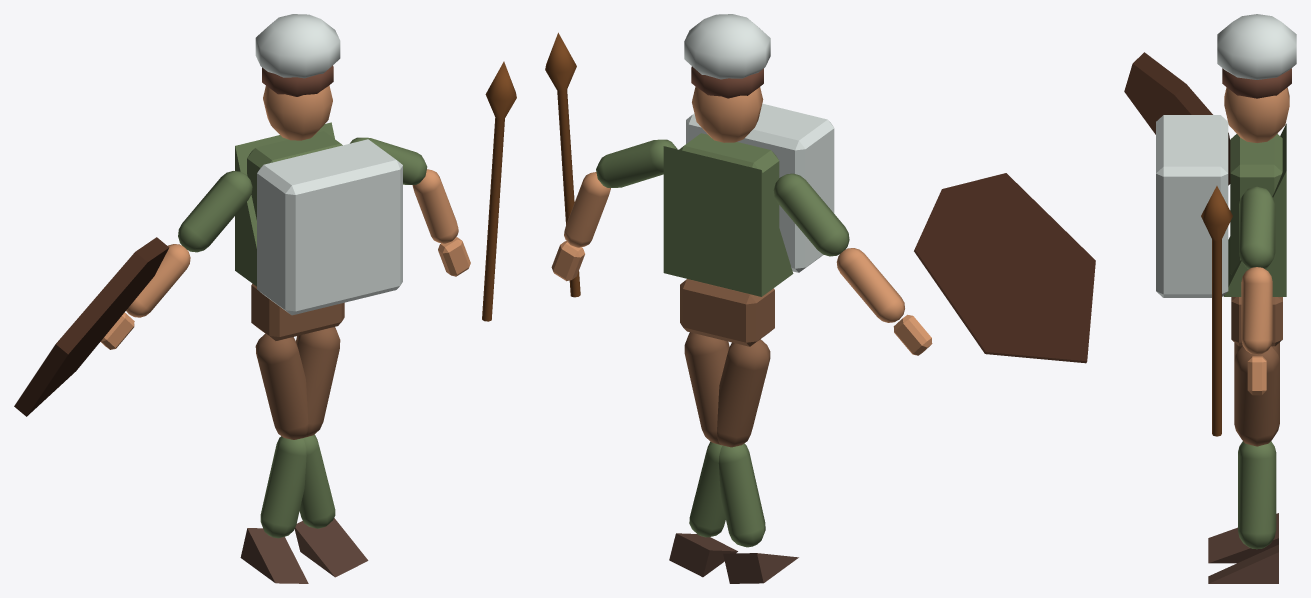
File: adventurer.rustic.glb
3 views of the same model, side by side, from view 1: azimuth 30°, elevation 25°; view 2: azimuth 150°, elevation 25°; view 3: azimuth 270°, elevation 25° (orthographic).
Visible parts, largest first — view 1: accessory.body, accessory.off-hand, accessory.head, thigh.left, shin.right, accessory.main-hand, upper-arm.left, thigh.right, head, pelvis, foot.left, tunic (+9 smaller); view 2: accessory.off-hand, tunic, accessory.body, pelvis, accessory.head, thigh.left, shin.right, upper-arm.left, thigh.right, head, accessory.main-hand, forearm.left (+9 smaller); view 3: accessory.body, accessory.head, shin.left, accessory.off-hand, thigh.right, torso, accessory.main-hand, upper-arm.right, head, forearm.right, tunic, foot.left (+4 smaller).
Part boxes in pixels (x1,y1,x2,y2): accessory.body: [257, 139, 402, 315]; accessory.off-hand: [14, 237, 169, 416]; accessory.head: [255, 14, 340, 78]; thigh.left: [255, 333, 308, 439]; shin.right: [260, 436, 306, 538]; accessory.main-hand: [482, 61, 516, 321]; upper-arm.left: [178, 171, 252, 252]; thigh.right: [296, 327, 340, 437]; head: [263, 85, 332, 140]; pelvis: [251, 283, 344, 340]; foot.left: [294, 518, 368, 577]; tunic: [235, 122, 334, 286]; accessory.off-hand: [914, 173, 1095, 363]; tunic: [663, 146, 793, 296]; accessory.body: [686, 103, 834, 272]; pelvis: [680, 279, 774, 346]; accessory.head: [684, 14, 770, 79]; thigh.left: [717, 339, 770, 447]; shin.right: [718, 443, 765, 547]; upper-arm.left: [773, 173, 849, 256]; thigh.right: [684, 332, 729, 444]; head: [692, 86, 763, 142]; accessory.main-hand: [545, 32, 580, 297]; forearm.left: [836, 248, 904, 322]; accessory.body: [1156, 115, 1228, 297]; accessory.head: [1217, 14, 1296, 79]; shin.left: [1238, 442, 1276, 549]; accessory.off-hand: [1124, 52, 1230, 185]; thigh.right: [1234, 346, 1279, 446]; torso: [1230, 134, 1282, 274]; accessory.main-hand: [1201, 186, 1232, 436]; upper-arm.right: [1239, 186, 1275, 269]; head: [1224, 87, 1289, 142]; forearm.right: [1241, 267, 1272, 354]; tunic: [1223, 123, 1286, 296]; foot.left: [1208, 544, 1278, 583].
Bounding box in the file's own units: 3.16 × 3.18 × 0.9041.
